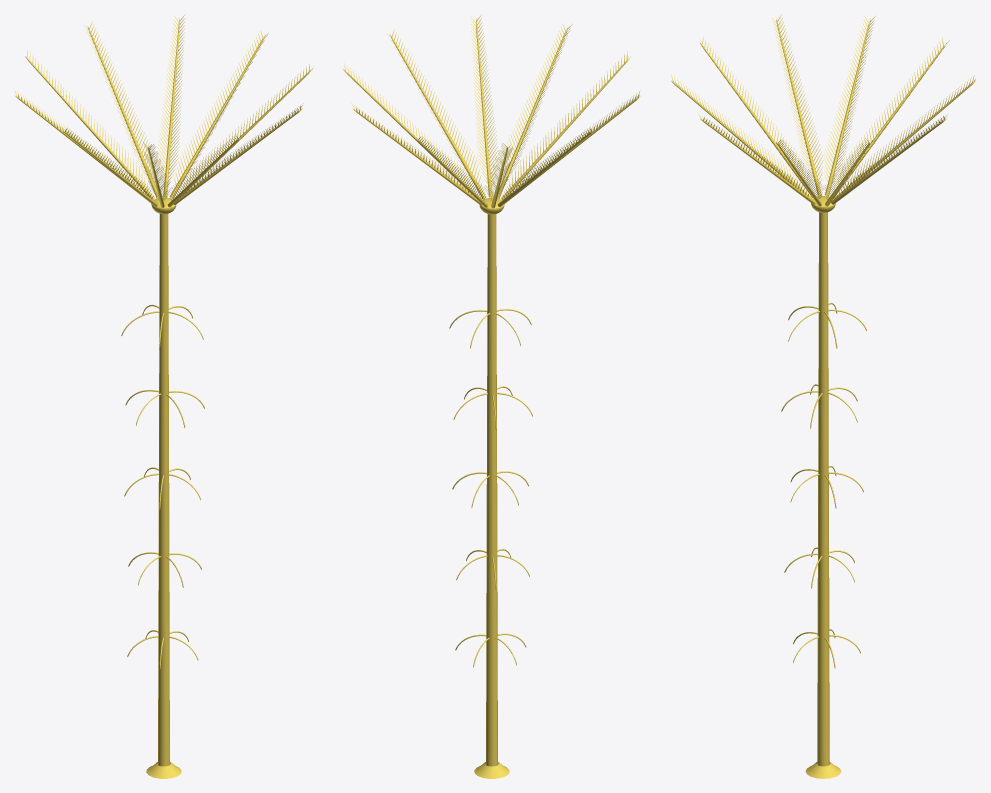
Rendered from crinoid_sea_lily.glb.
3 views of the same model, side by side, from view 1: azimuth 30°, elevation 25°; view 2: azimuth 150°, elevation 25°; view 3: azimuth 270°, elevation 25° (orthographic).
Visible parts, largest first — view 1: crinoid_sea_lily; view 2: crinoid_sea_lily; view 3: crinoid_sea_lily.
Part boxes in pixels (<box>): crinoid_sea_lily: <box>14,14,312,778</box>; crinoid_sea_lily: <box>343,14,640,778</box>; crinoid_sea_lily: <box>671,14,975,778</box>.
Size of the model in its own units: 0.1962 by 0.513 by 0.2052.
